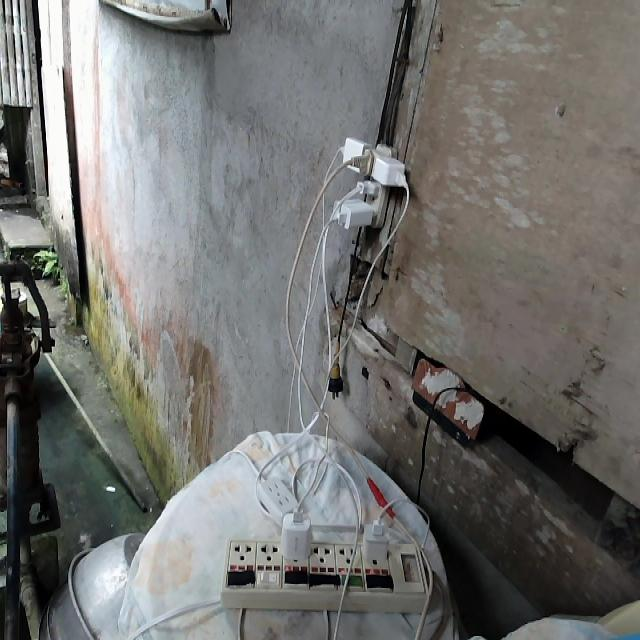-: (328, 133, 410, 235)
